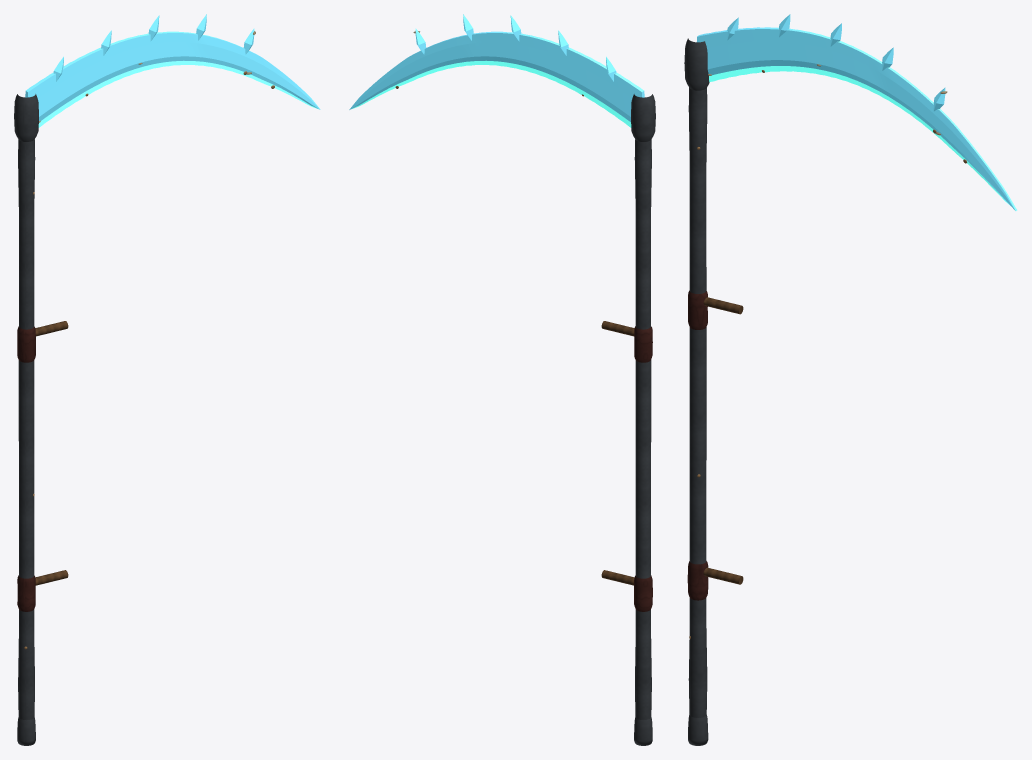
Rendered from crystal-scythe.glb.
3 renders of one model, left to right at view 1: azimuth 30°, elevation 25°; view 2: azimuth 150°, elevation 25°; view 3: azimuth 330°, elevation 25°, orthographic. The views are drawn at different scales.
Visible parts, largest first — view 1: darksteel / oil-blackened fittings, crystal / faceted crystal, energy / emissive field channel, leather / oiled leather wrap, wood / oiled hardwood; view 2: darksteel / oil-blackened fittings, crystal / faceted crystal, energy / emissive field channel, leather / oiled leather wrap, wood / oiled hardwood; view 3: darksteel / oil-blackened fittings, crystal / faceted crystal, energy / emissive field channel, leather / oiled leather wrap, wood / oiled hardwood.
Part boxes in pixels (x1,y1,x2,y2): darksteel / oil-blackened fittings: [14, 94, 38, 745]; crystal / faceted crystal: [25, 14, 320, 120]; energy / emissive field channel: [38, 60, 318, 127]; leather / oiled leather wrap: [17, 326, 35, 611]; wood / oiled hardwood: [35, 321, 68, 585]; darksteel / oil-blackened fittings: [631, 94, 655, 745]; crystal / faceted crystal: [349, 14, 644, 121]; energy / emissive field channel: [352, 60, 631, 127]; leather / oiled leather wrap: [634, 326, 652, 611]; wood / oiled hardwood: [601, 321, 634, 585]; darksteel / oil-blackened fittings: [684, 38, 709, 745]; crystal / faceted crystal: [697, 14, 1017, 210]; energy / emissive field channel: [709, 66, 1010, 205]; leather / oiled leather wrap: [687, 290, 708, 600]; wood / oiled hardwood: [703, 297, 743, 584].
Size of the model in its own units: 0.7674 by 1.67 by 0.0549.
Materials: 7 (3 with a texture image).
